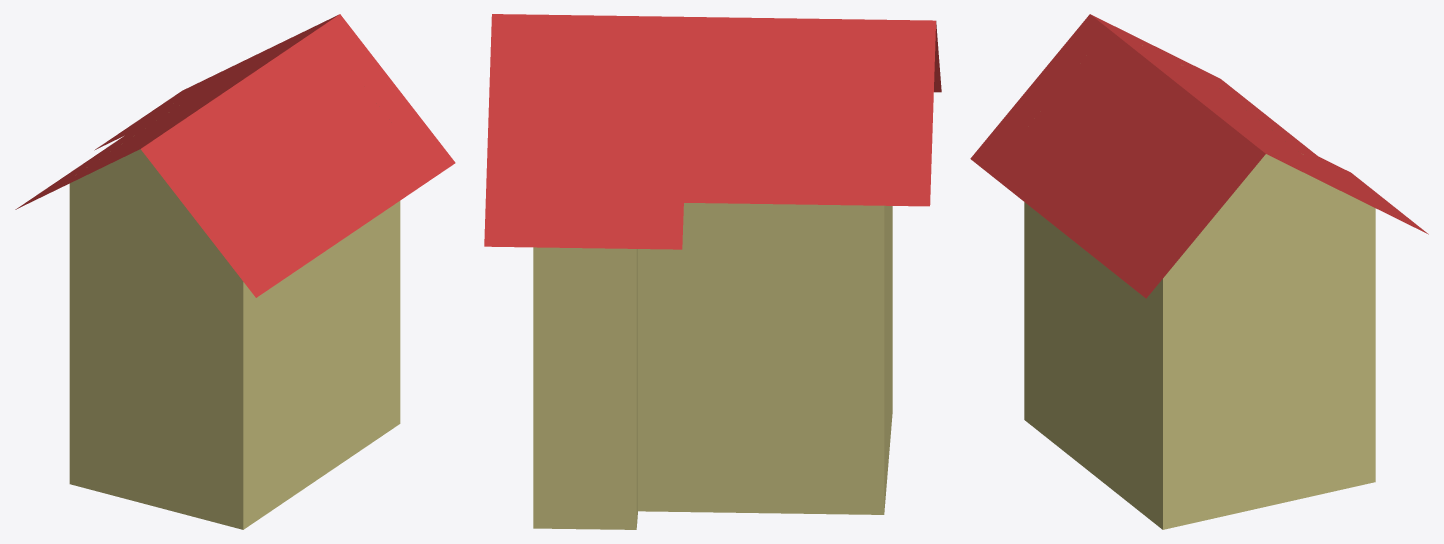
3 views of the same model, side by side, from view 1: azimuth 30°, elevation 25°; view 2: azimuth 150°, elevation 25°; view 3: azimuth 270°, elevation 25° (orthographic). The views are drawn at different scales.
Size of the model in its own units: 8.68 by 8.59 by 7.68.
